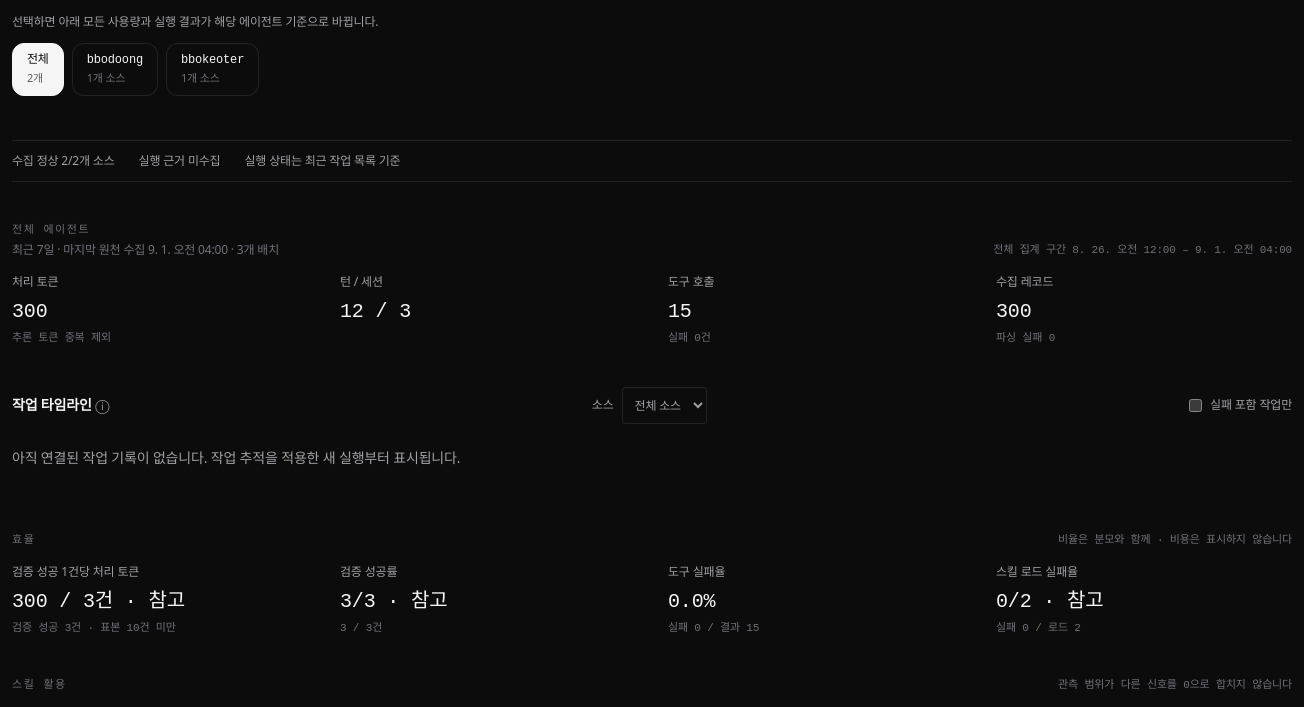
Test: AgentActivityPanel › 에이전트를 선택하면 토큰·모델·도구·스킬·실행 결과를 함께 전환한다
What coordinates should you click on to do the following:
click the button "bbokeoter 1개 소스"
I would click on:
 (212, 69)
Its box is x1=166 y1=43 x2=259 y2=96.
(page scrolled)
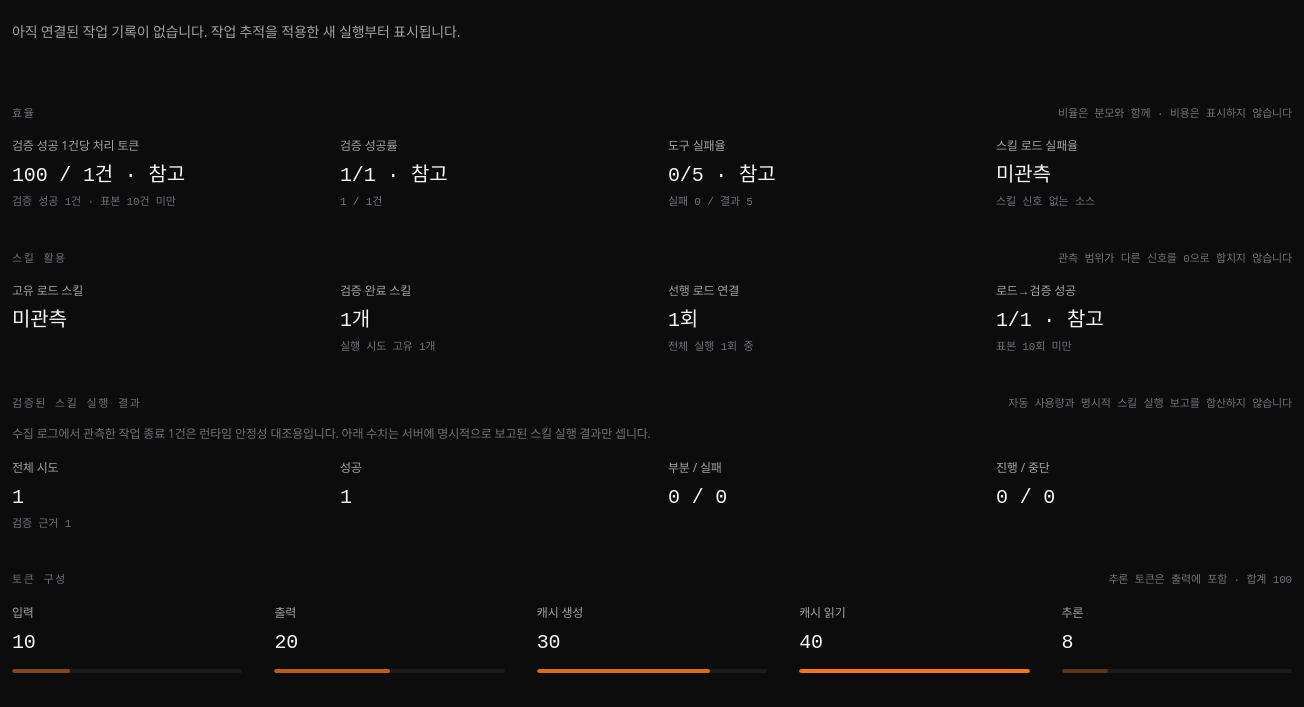
Expected: the text "표본 10회 미만" is shown, x1=996 y1=341 x2=1071 y2=353
Expected: the text "미관측" is shown 2 times, x1=996 y1=164 x2=1051 y2=187; x1=12 y1=309 x2=67 y2=332
